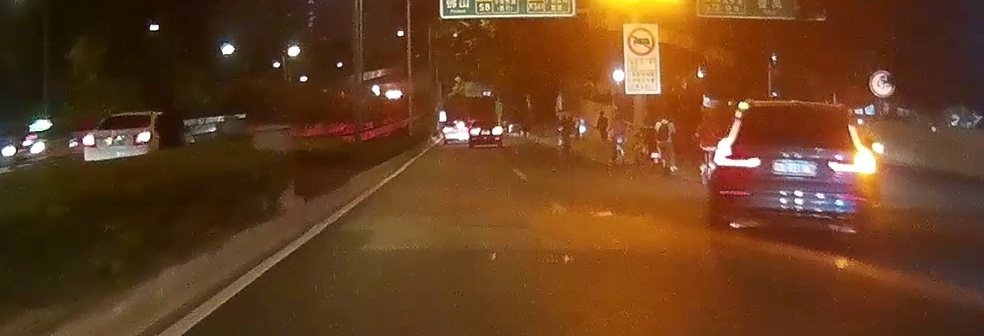L_light: (713, 119, 762, 168), (83, 134, 95, 148)
R_light: (828, 123, 876, 175), (132, 131, 153, 146)
T_light: (785, 106, 809, 110), (114, 127, 127, 130)
night-no: (82, 112, 155, 162)
night-right: (708, 101, 876, 245)
